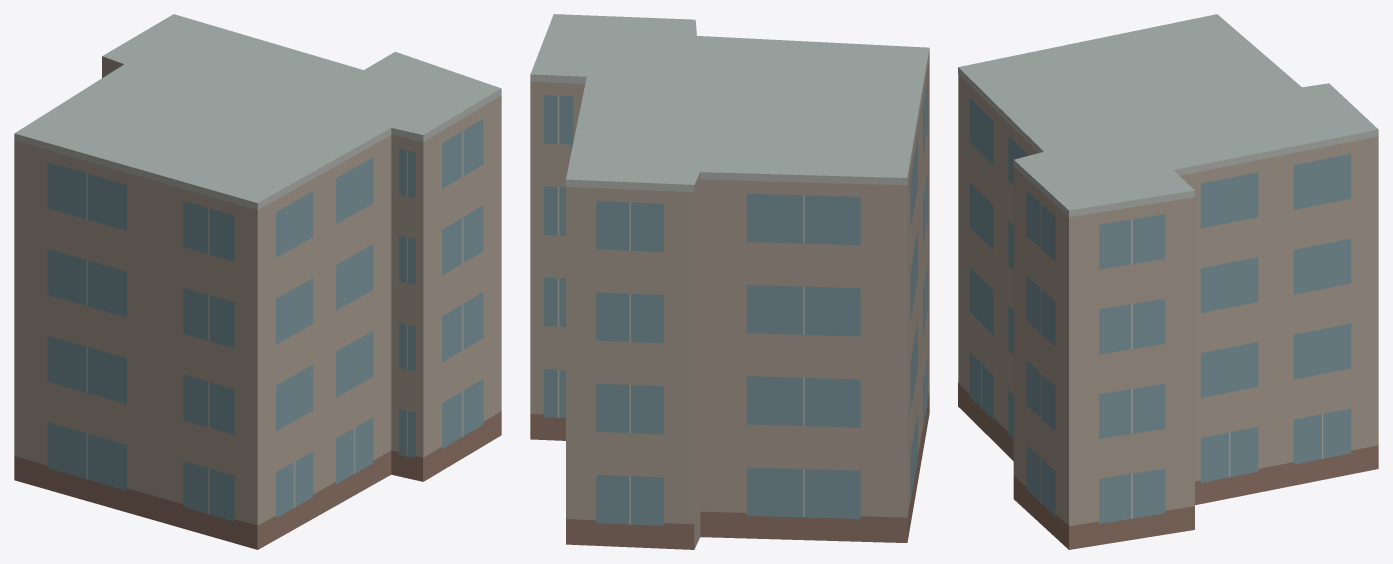
File: survey-upis-32605792.glb
The picture shows the model from 3 angles, left to right: view 1: azimuth 30°, elevation 25°; view 2: azimuth 150°, elevation 25°; view 3: azimuth 270°, elevation 25°; orthographic projection. The views are drawn at different scales.
Parts seen in each view (by area): view 1: survey-upis-32605792.tmp; view 2: survey-upis-32605792.tmp; view 3: survey-upis-32605792.tmp.
Boxes of the visible parts, x1,y1,x2,y2 form: survey-upis-32605792.tmp: [14, 14, 501, 549]; survey-upis-32605792.tmp: [530, 14, 929, 549]; survey-upis-32605792.tmp: [958, 14, 1378, 549].
Size of the model in its own units: 15.17 by 12.2 by 13.71.
